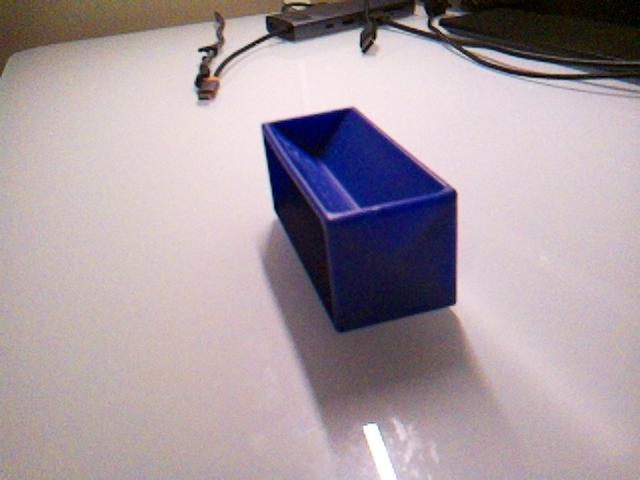blue: (260, 104, 460, 333)
